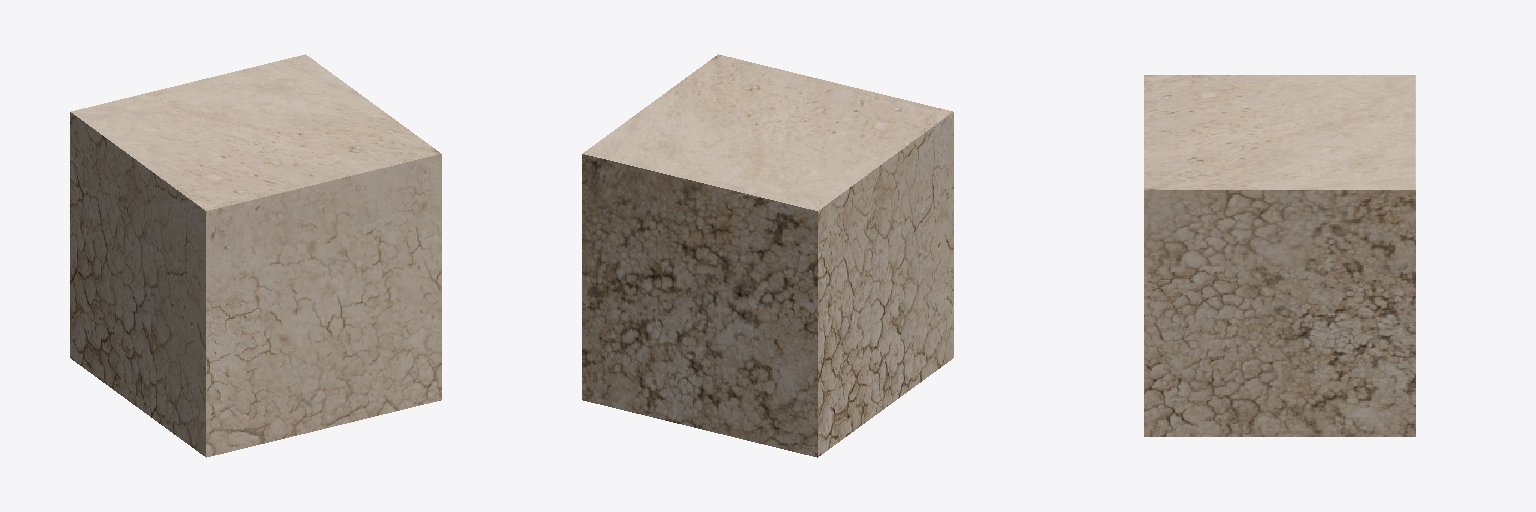
The picture shows the model from 3 angles: view 1: azimuth 30°, elevation 25°; view 2: azimuth 150°, elevation 25°; view 3: azimuth 270°, elevation 25°; orthographic projection.
Visible parts, largest first — view 1: Cube; view 2: Cube; view 3: Cube.
Boxes of the visible parts, <box> form: Cube: <box>70,54,441,457</box>; Cube: <box>582,54,953,457</box>; Cube: <box>1144,75,1415,436</box>.
Bounding box in the file's own units: 2 × 2 × 2.
1 materials, 1 textured.